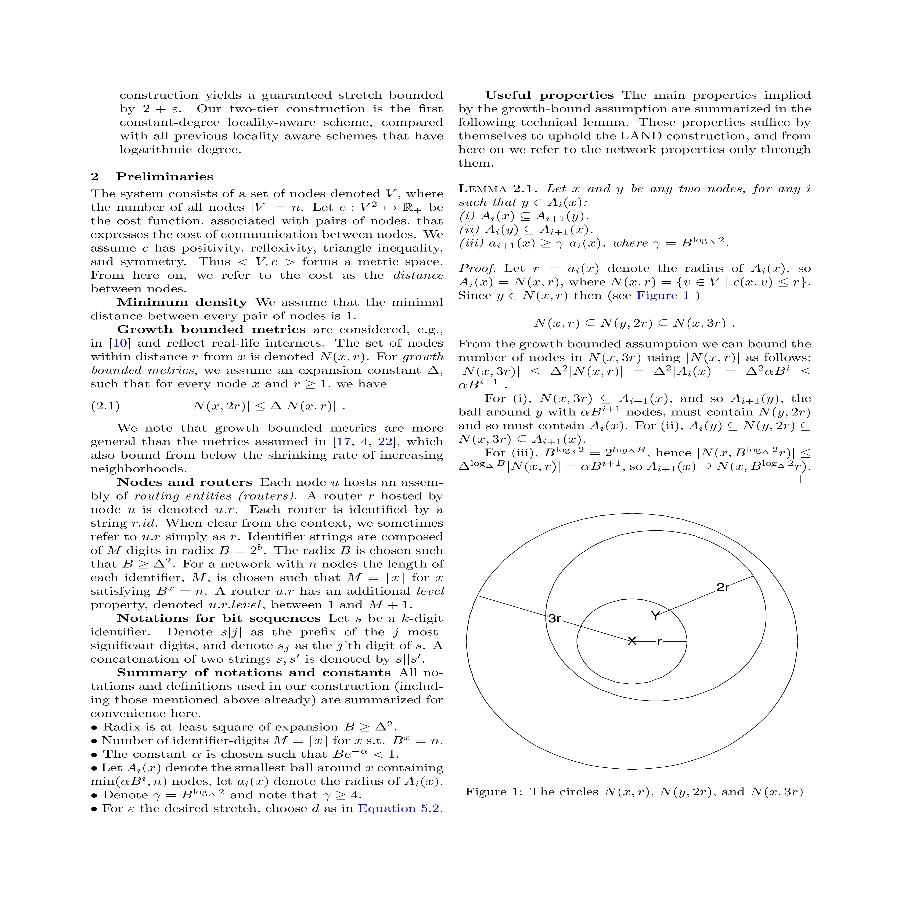eq: (452, 364, 813, 390), (531, 314, 729, 332), (188, 397, 343, 415), (479, 207, 587, 221), (487, 238, 603, 251), (652, 234, 729, 252), (486, 226, 593, 237)
